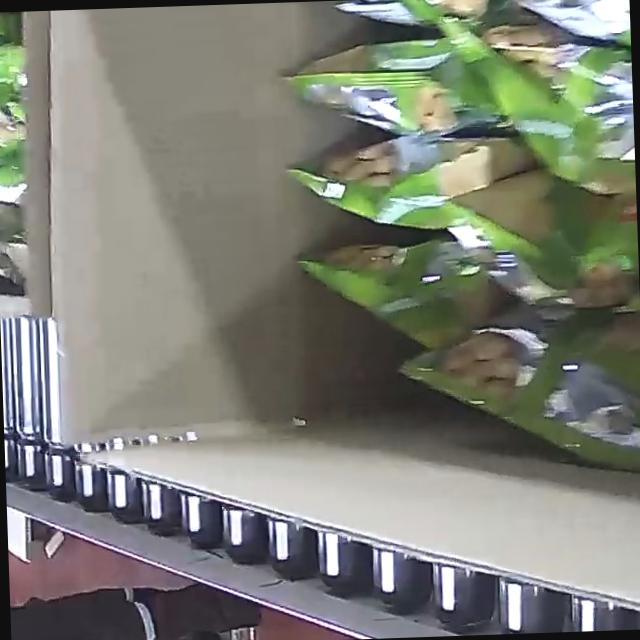yogurt: (272, 0, 640, 490), (0, 10, 39, 293)
